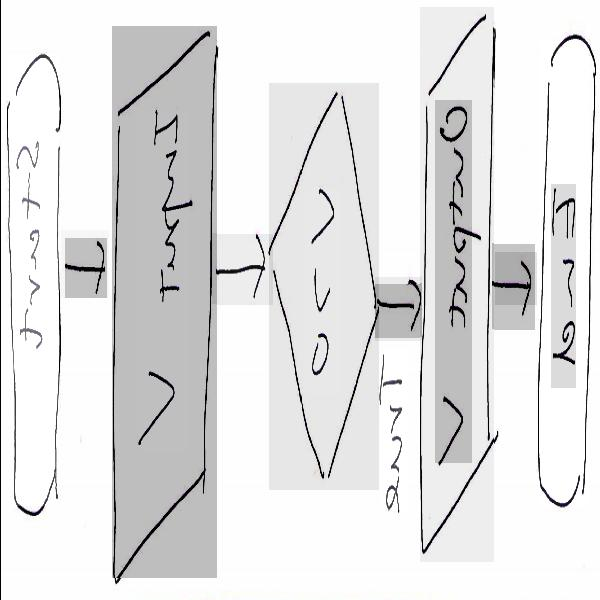arrow: (212, 234, 272, 305), (492, 245, 534, 331), (60, 231, 108, 298), (374, 277, 422, 341), (219, 241, 268, 302), (373, 284, 422, 338), (64, 238, 106, 298), (494, 252, 536, 305)
data: (111, 28, 216, 578), (420, 9, 493, 562)
decision: (269, 84, 378, 490)
terminator: (538, 40, 588, 507), (7, 55, 58, 507)
text: (138, 112, 189, 453), (435, 101, 472, 464), (12, 119, 46, 370), (305, 187, 339, 395), (550, 184, 575, 388), (379, 349, 406, 510)
